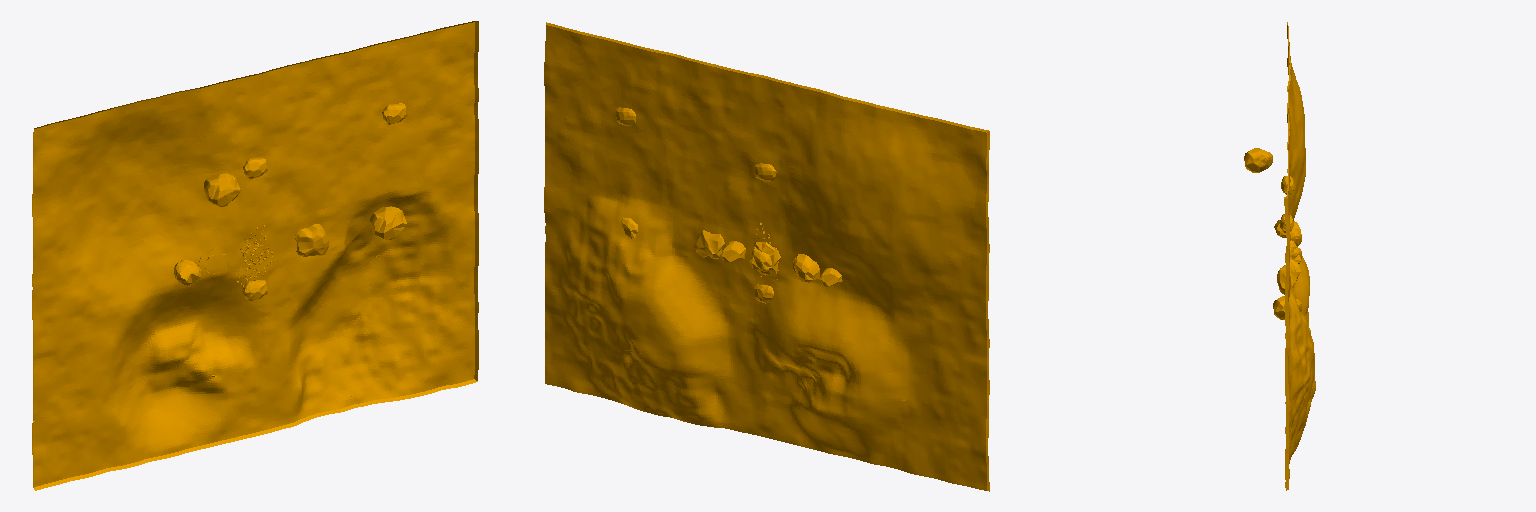
robot.urdf — unnamed:
<?xml version="1.0"?>
<!-- created with Phobos 0.7 -->
  <robot name="unnamed">

    <link name="Armature">
      <visual name="Group_ShadowedScene_Group_Group_PositionAttitudeTransform_M.003">
        <origin xyz="-0.8521 -1.13223 -0.84198" rpy="-1.5708 0 0"/>
        <geometry>
          <mesh filename="../meshes/stl/Group_ShadowedScene_Group_Group_PositionAttitudeTransform_M.044.stl" scale="1.0 1.0 1.0"/>
        </geometry>
      </visual>
      <visual name="rock1_high">
        <origin xyz="-11.49163 -1.13223 -0.84198" rpy="-1.5708 0 0"/>
        <geometry>
          <mesh filename="../meshes/stl/rock1_high.stl" scale="1.0 1.0 1.0"/>
        </geometry>
      </visual>
      <visual name="rock1_low">
        <origin xyz="-11.49163 -1.13223 -0.84198" rpy="-1.5708 0 0"/>
        <geometry>
          <mesh filename="../meshes/stl/rock1_low.stl" scale="1.0 1.0 1.0"/>
        </geometry>
      </visual>
      <visual name="rock1_low2">
        <origin xyz="-11.49163 -1.13223 -0.84198" rpy="-1.5708 0 0"/>
        <geometry>
          <mesh filename="../meshes/stl/rock1_low2.stl" scale="1.0 1.0 1.0"/>
        </geometry>
      </visual>
      <visual name="rock1_mid">
        <origin xyz="-11.49163 -1.13223 -0.84198" rpy="-1.5708 0 0"/>
        <geometry>
          <mesh filename="../meshes/stl/rock1_mid.stl" scale="1.0 1.0 1.0"/>
        </geometry>
      </visual>
      <visual name="rock2_high">
        <origin xyz="-11.49163 -1.13223 -0.84198" rpy="-1.5708 0 0"/>
        <geometry>
          <mesh filename="../meshes/stl/Group_ShadowedScene_Group_Group_PositionAttitudeTransform_M.020.stl" scale="1.0 1.0 1.0"/>
        </geometry>
      </visual>
      <visual name="rock2_high.001">
        <origin xyz="-15.7721 -3.63707 6.23099" rpy="-1.5708 0 0"/>
        <geometry>
          <mesh filename="../meshes/stl/Group_ShadowedScene_Group_Group_PositionAttitudeTransform_M.041.stl" scale="1.0 1.0 1.0"/>
        </geometry>
      </visual>
      <visual name="rock2_low">
        <origin xyz="-11.49163 -1.13223 -0.84198" rpy="-1.5708 0 0"/>
        <geometry>
          <mesh filename="../meshes/stl/Group_ShadowedScene_Group_Group_PositionAttitudeTransform_M.023.stl" scale="1.0 1.0 1.0"/>
        </geometry>
      </visual>
      <visual name="rock2_low.001">
        <origin xyz="-15.7721 -3.63707 6.23099" rpy="-1.5708 0 0"/>
        <geometry>
          <mesh filename="../meshes/stl/Group_ShadowedScene_Group_Group_PositionAttitudeTransform_M.039.stl" scale="1.0 1.0 1.0"/>
        </geometry>
      </visual>
      <visual name="rock2_low2">
        <origin xyz="-14.92233 -1.13223 -0.84198" rpy="-1.5708 0 0"/>
        <geometry>
          <mesh filename="../meshes/stl/Group_ShadowedScene_Group_Group_PositionAttitudeTransform_M.021.stl" scale="1.0 1.0 1.0"/>
        </geometry>
      </visual>
      <visual name="rock2_mid">
        <origin xyz="-11.49163 -1.13223 -0.84198" rpy="-1.5708 0 0"/>
        <geometry>
          <mesh filename="../meshes/stl/Group_ShadowedScene_Group_Group_PositionAttitudeTransform_M.022.stl" scale="1.0 1.0 1.0"/>
        </geometry>
      </visual>
      <visual name="rock2_mid.001">
        <origin xyz="-15.7721 -3.63707 6.23099" rpy="-1.5708 0 0"/>
        <geometry>
          <mesh filename="../meshes/stl/Group_ShadowedScene_Group_Group_PositionAttitudeTransform_M.040.stl" scale="1.0 1.0 1.0"/>
        </geometry>
      </visual>
      <visual name="rock3_high">
        <origin xyz="-11.49163 -1.13223 -0.84198" rpy="-1.5708 0 0"/>
        <geometry>
          <mesh filename="../meshes/stl/Group_ShadowedScene_Group_Group_PositionAttitudeTransform_M.045.stl" scale="1.0 1.0 1.0"/>
        </geometry>
      </visual>
      <visual name="rock3_high.001">
        <origin xyz="-17.12685 -1.13223 -0.84198" rpy="-1.5708 0 0"/>
        <geometry>
          <mesh filename="../meshes/stl/Group_ShadowedScene_Group_Group_PositionAttitudeTransform_M.038.stl" scale="1.0 1.0 1.0"/>
        </geometry>
      </visual>
      <visual name="rock3_low">
        <origin xyz="-11.49163 -1.13223 -0.84198" rpy="-1.5708 0 0"/>
        <geometry>
          <mesh filename="../meshes/stl/Group_ShadowedScene_Group_Group_PositionAttitudeTransform_M.003.stl" scale="1.0 1.0 1.0"/>
        </geometry>
      </visual>
      <visual name="rock3_low.001">
        <origin xyz="-17.12685 -1.13223 -0.84198" rpy="-1.5708 0 0"/>
        <geometry>
          <mesh filename="../meshes/stl/Group_ShadowedScene_Group_Group_PositionAttitudeTransform_M.035.stl" scale="1.0 1.0 1.0"/>
        </geometry>
      </visual>
      <visual name="rock3_low2">
        <origin xyz="-9.13653 -1.13223 -0.84198" rpy="-1.5708 0 0"/>
        <geometry>
          <mesh filename="../meshes/stl/Group_ShadowedScene_Group_Group_PositionAttitudeTransform_M.001.stl" scale="1.0 1.0 1.0"/>
        </geometry>
      </visual>
      <visual name="rock3_low2.001">
        <origin xyz="-17.12685 -1.13223 -0.84198" rpy="-1.5708 0 0"/>
        <geometry>
          <mesh filename="../meshes/stl/Group_ShadowedScene_Group_Group_PositionAttitudeTransform_M.037.stl" scale="1.0 1.0 1.0"/>
        </geometry>
      </visual>
      <visual name="rock3_mid">
        <origin xyz="-11.49163 -1.13223 -0.84198" rpy="-1.5708 0 0"/>
        <geometry>
          <mesh filename="../meshes/stl/Group_ShadowedScene_Group_Group_PositionAttitudeTransform_M.004.stl" scale="1.0 1.0 1.0"/>
        </geometry>
      </visual>
      <visual name="rock3_mid.001">
        <origin xyz="-17.12685 -1.13223 -0.84198" rpy="-1.5708 0 0"/>
        <geometry>
          <mesh filename="../meshes/stl/Group_ShadowedScene_Group_Group_PositionAttitudeTransform_M.036.stl" scale="1.0 1.0 1.0"/>
        </geometry>
      </visual>
      <visual name="rock4_extra_high">
        <origin xyz="-6.9556 -1.13223 -0.84198" rpy="-1.5708 0 0"/>
        <geometry>
          <mesh filename="../meshes/stl/Group_ShadowedScene_Group_Group_PositionAttitudeTransform_M.026.stl" scale="1.0 1.0 1.0"/>
        </geometry>
      </visual>
      <visual name="rock4_high">
        <origin xyz="-11.49163 -1.13223 -0.84198" rpy="-1.5708 0 0"/>
        <geometry>
          <mesh filename="../meshes/stl/Group_ShadowedScene_Group_Group_PositionAttitudeTransform_M.027.stl" scale="1.0 1.0 1.0"/>
        </geometry>
      </visual>
      <visual name="rock4_low">
        <origin xyz="-11.49163 -1.13223 -0.84198" rpy="-1.5708 0 0"/>
        <geometry>
          <mesh filename="../meshes/stl/Group_ShadowedScene_Group_Group_PositionAttitudeTransform_M.029.stl" scale="1.0 1.0 1.0"/>
        </geometry>
      </visual>
      <visual name="rock4_low2">
        <origin xyz="-11.49163 -1.13223 -0.84198" rpy="-1.5708 0 0"/>
        <geometry>
          <mesh filename="../meshes/stl/Group_ShadowedScene_Group_Group_PositionAttitudeTransform_M.024.stl" scale="1.0 1.0 1.0"/>
        </geometry>
      </visual>
      <visual name="rock4_mid">
        <origin xyz="-11.49163 -1.13223 -0.84198" rpy="-1.5708 0 0"/>
        <geometry>
          <mesh filename="../meshes/stl/Group_ShadowedScene_Group_Group_PositionAttitudeTransform_M.028.stl" scale="1.0 1.0 1.0"/>
        </geometry>
      </visual>
      <visual name="rock5_extra_high">
        <origin xyz="-11.49163 -1.13223 5.89371" rpy="-1.5708 0 0"/>
        <geometry>
          <mesh filename="../meshes/stl/Group_ShadowedScene_Group_Group_PositionAttitudeTransform_M.025.stl" scale="1.0 1.0 1.0"/>
        </geometry>
      </visual>
      <visual name="rock5_high">
        <origin xyz="-11.49163 -1.13223 -0.84198" rpy="-1.5708 0 0"/>
        <geometry>
          <mesh filename="../meshes/stl/Group_ShadowedScene_Group_Group_PositionAttitudeTransform_M.030.stl" scale="1.0 1.0 1.0"/>
        </geometry>
      </visual>
      <visual name="rock5_high.001">
        <origin xyz="-0.23873 -1.20993 7.50664" rpy="-1.5708 0 0"/>
        <geometry>
          <mesh filename="../meshes/stl/Group_ShadowedScene_Group_Group_PositionAttitudeTransform_M.033.stl" scale="1.0 1.0 1.0"/>
        </geometry>
      </visual>
      <visual name="rock5_low">
        <origin xyz="-11.49163 -1.13223 -0.84198" rpy="-1.5708 0 0"/>
        <geometry>
          <mesh filename="../meshes/stl/Group_ShadowedScene_Group_Group_PositionAttitudeTransform_M.032.stl" scale="1.0 1.0 1.0"/>
        </geometry>
      </visual>
      <visual name="rock5_low.001">
        <origin xyz="-0.23873 -1.20993 7.50664" rpy="-1.5708 0 0"/>
        <geometry>
          <mesh filename="../meshes/stl/Group_ShadowedScene_Group_Group_PositionAttitudeTransform_M.014.stl" scale="1.0 1.0 1.0"/>
        </geometry>
      </visual>
      <visual name="rock5_low2">
        <origin xyz="-14.59581 -1.13223 -0.84198" rpy="-1.5708 0 0"/>
        <geometry>
          <mesh filename="../meshes/stl/Group_ShadowedScene_Group_Group_PositionAttitudeTransform_M.002.stl" scale="1.0 1.0 1.0"/>
        </geometry>
      </visual>
      <visual name="rock5_low2.001">
        <origin xyz="-0.23873 -1.20993 7.50664" rpy="-1.5708 0 0"/>
        <geometry>
          <mesh filename="../meshes/stl/Group_ShadowedScene_Group_Group_PositionAttitudeTransform_M.034.stl" scale="1.0 1.0 1.0"/>
        </geometry>
      </visual>
      <visual name="rock5_mid">
        <origin xyz="-11.49163 -1.13223 -0.84198" rpy="-1.5708 0 0"/>
        <geometry>
          <mesh filename="../meshes/stl/Group_ShadowedScene_Group_Group_PositionAttitudeTransform_M.031.stl" scale="1.0 1.0 1.0"/>
        </geometry>
      </visual>
      <visual name="rock5_mid.001">
        <origin xyz="-0.23873 -1.20993 7.50664" rpy="-1.5708 0 0"/>
        <geometry>
          <mesh filename="../meshes/stl/Group_ShadowedScene_Group_Group_PositionAttitudeTransform_M.016.stl" scale="1.0 1.0 1.0"/>
        </geometry>
      </visual>
      <visual name="rock5_orig">
        <origin xyz="-11.49163 -1.13223 -3.5605" rpy="-1.5708 0 0"/>
        <geometry>
          <mesh filename="../meshes/stl/Group_ShadowedScene_Group_Group_PositionAttitudeTransform_M.000.stl" scale="1.0 1.0 1.0"/>
        </geometry>
      </visual>
      <visual name="stonefield_high">
        <origin xyz="-11.49163 -1.13223 -0.84198" rpy="-1.5708 0 0"/>
        <geometry>
          <mesh filename="../meshes/stl/Group_ShadowedScene_Group_Group_PositionAttitudeTransform_M.011.stl" scale="1.0 1.0 1.0"/>
        </geometry>
      </visual>
      <visual name="stonefield_low">
        <origin xyz="-11.49163 -1.13223 -0.84198" rpy="-1.5708 0 0"/>
        <geometry>
          <mesh filename="../meshes/stl/Group_ShadowedScene_Group_Group_PositionAttitudeTransform_M.018.stl" scale="1.0 1.0 1.0"/>
        </geometry>
      </visual>
      <visual name="stonefield_mid">
        <origin xyz="-11.49163 -1.13223 -0.84198" rpy="-1.5708 0 0"/>
        <geometry>
          <mesh filename="../meshes/stl/Group_ShadowedScene_Group_Group_PositionAttitudeTransform_M.017.stl" scale="1.0 1.0 1.0"/>
        </geometry>
      </visual>
      <visual name="tile_001">
        <origin xyz="-11.49163 -1.13223 -0.84198" rpy="-1.5708 0 0"/>
        <geometry>
          <mesh filename="../meshes/stl/env_mesh.003.stl" scale="1.0 1.0 1.0"/>
        </geometry>
      </visual>
      <visual name="tile_002">
        <origin xyz="-11.49163 -1.13223 -0.84198" rpy="-1.5708 0 0"/>
        <geometry>
          <mesh filename="../meshes/stl/env_mesh.004.stl" scale="1.0 1.0 1.0"/>
        </geometry>
      </visual>
      <visual name="tile_003">
        <origin xyz="-11.49163 -1.13223 -0.84198" rpy="-1.5708 0 0"/>
        <geometry>
          <mesh filename="../meshes/stl/env_mesh.005.stl" scale="1.0 1.0 1.0"/>
        </geometry>
      </visual>
      <visual name="tile_004">
        <origin xyz="-11.49163 -1.13223 -0.84198" rpy="-1.5708 0 0"/>
        <geometry>
          <mesh filename="../meshes/stl/env_mesh.006.stl" scale="1.0 1.0 1.0"/>
        </geometry>
      </visual>
      <visual name="tile_005">
        <origin xyz="-11.49163 -1.13223 -0.84198" rpy="-1.5708 0 0"/>
        <geometry>
          <mesh filename="../meshes/stl/env_mesh.007.stl" scale="1.0 1.0 1.0"/>
        </geometry>
      </visual>
      <visual name="tile_006">
        <origin xyz="-11.49163 -1.13223 -0.84198" rpy="-1.5708 0 0"/>
        <geometry>
          <mesh filename="../meshes/stl/env_mesh.008.stl" scale="1.0 1.0 1.0"/>
        </geometry>
      </visual>
      <visual name="tile_007">
        <origin xyz="-11.49163 -1.13223 -0.84198" rpy="-1.5708 0 0"/>
        <geometry>
          <mesh filename="../meshes/stl/env_mesh.009.stl" scale="1.0 1.0 1.0"/>
        </geometry>
      </visual>
      <visual name="tile_008">
        <origin xyz="-11.49163 -1.13223 -0.84198" rpy="-1.5708 0 0"/>
        <geometry>
          <mesh filename="../meshes/stl/env_mesh.010.stl" scale="1.0 1.0 1.0"/>
        </geometry>
      </visual>
      <visual name="tile_009">
        <origin xyz="-11.49163 -1.13223 -0.84198" rpy="-1.5708 0 0"/>
        <geometry>
          <mesh filename="../meshes/stl/env_mesh.011.stl" scale="1.0 1.0 1.0"/>
        </geometry>
      </visual>
      <visual name="tile_010">
        <origin xyz="-11.49163 -1.13223 -0.84198" rpy="-1.5708 0 0"/>
        <geometry>
          <mesh filename="../meshes/stl/env_mesh.012.stl" scale="1.0 1.0 1.0"/>
        </geometry>
      </visual>
      <visual name="tile_011">
        <origin xyz="-11.49163 -1.13223 -0.84198" rpy="-1.5708 0 0"/>
        <geometry>
          <mesh filename="../meshes/stl/env_mesh.013.stl" scale="1.0 1.0 1.0"/>
        </geometry>
      </visual>
      <visual name="tile_012">
        <origin xyz="-11.49163 -1.13223 -0.84198" rpy="-1.5708 0 0"/>
        <geometry>
          <mesh filename="../meshes/stl/env_mesh.014.stl" scale="1.0 1.0 1.0"/>
        </geometry>
      </visual>
      <visual name="tile_013">
        <origin xyz="-11.49163 -1.13223 -0.84198" rpy="-1.5708 0 0"/>
        <geometry>
          <mesh filename="../meshes/stl/env_mesh.015.stl" scale="1.0 1.0 1.0"/>
        </geometry>
      </visual>
      <visual name="tile_014">
        <origin xyz="-11.49163 -1.13223 -0.84198" rpy="-1.5708 0 0"/>
        <geometry>
          <mesh filename="../meshes/stl/env_mesh.016.stl" scale="1.0 1.0 1.0"/>
        </geometry>
      </visual>
      <visual name="tile_015">
        <origin xyz="-11.49163 -1.13223 -0.84198" rpy="-1.5708 0 0"/>
        <geometry>
          <mesh filename="../meshes/stl/env_mesh.017.stl" scale="1.0 1.0 1.0"/>
        </geometry>
      </visual>
      <visual name="tile_016">
        <origin xyz="-11.49163 -1.13223 -0.84198" rpy="-1.5708 0 0"/>
        <geometry>
          <mesh filename="../meshes/stl/env_mesh.018.stl" scale="1.0 1.0 1.0"/>
        </geometry>
      </visual>
      <visual name="tile_017">
        <origin xyz="-11.49163 -1.13223 -0.84198" rpy="-1.5708 0 0"/>
        <geometry>
          <mesh filename="../meshes/stl/env_mesh.019.stl" scale="1.0 1.0 1.0"/>
        </geometry>
      </visual>
      <visual name="tile_018">
        <origin xyz="-11.49163 -1.13223 -0.84198" rpy="-1.5708 0 0"/>
        <geometry>
          <mesh filename="../meshes/stl/env_mesh.020.stl" scale="1.0 1.0 1.0"/>
        </geometry>
      </visual>
      <visual name="tile_019">
        <origin xyz="-11.49163 -1.13223 -0.84198" rpy="-1.5708 0 0"/>
        <geometry>
          <mesh filename="../meshes/stl/env_mesh.021.stl" scale="1.0 1.0 1.0"/>
        </geometry>
      </visual>
      <visual name="tile_020">
        <origin xyz="-11.49163 -1.13223 -0.84198" rpy="-1.5708 0 0"/>
        <geometry>
          <mesh filename="../meshes/stl/env_mesh.022.stl" scale="1.0 1.0 1.0"/>
        </geometry>
      </visual>
      <visual name="tile_021">
        <origin xyz="-11.49163 -1.13223 -0.84198" rpy="-1.5708 0 0"/>
        <geometry>
          <mesh filename="../meshes/stl/env_mesh.023.stl" scale="1.0 1.0 1.0"/>
        </geometry>
      </visual>
      <visual name="tile_022">
        <origin xyz="-11.49163 -1.13223 -0.84198" rpy="-1.5708 0 0"/>
        <geometry>
          <mesh filename="../meshes/stl/env_mesh.024.stl" scale="1.0 1.0 1.0"/>
        </geometry>
      </visual>
      <visual name="tile_023">
        <origin xyz="-11.49163 -1.13223 -0.84198" rpy="-1.5708 0 0"/>
        <geometry>
          <mesh filename="../meshes/stl/env_mesh.025.stl" scale="1.0 1.0 1.0"/>
        </geometry>
      </visual>
      <visual name="tile_mid_001">
        <origin xyz="-11.49163 -1.13223 -0.84198" rpy="-1.5708 0 0"/>
        <geometry>
          <mesh filename="../meshes/stl/env_mesh.118.stl" scale="1.0 1.0 1.0"/>
        </geometry>
      </visual>
      <visual name="tile_mid_002">
        <origin xyz="-11.49163 -1.13223 -0.84198" rpy="-1.5708 0 0"/>
        <geometry>
          <mesh filename="../meshes/stl/env_mesh.117.stl" scale="1.0 1.0 1.0"/>
        </geometry>
      </visual>
      <visual name="tile_mid_003">
        <origin xyz="-11.49163 -1.13223 -0.84198" rpy="-1.5708 0 0"/>
        <geometry>
          <mesh filename="../meshes/stl/env_mesh.116.stl" scale="1.0 1.0 1.0"/>
        </geometry>
      </visual>
      <visual name="tile_mid_004">
        <origin xyz="-11.49163 -1.13223 -0.84198" rpy="-1.5708 0 0"/>
        <geometry>
          <mesh filename="../meshes/stl/env_mesh.027.stl" scale="1.0 1.0 1.0"/>
        </geometry>
      </visual>
      <visual name="tile_mid_005">
        <origin xyz="-11.49163 -1.13223 -0.84198" rpy="-1.5708 0 0"/>
        <geometry>
          <mesh filename="../meshes/stl/env_mesh.114.stl" scale="1.0 1.0 1.0"/>
        </geometry>
      </visual>
      <visual name="tile_mid_006">
        <origin xyz="-11.49163 -1.13223 -0.84198" rpy="-1.5708 0 0"/>
        <geometry>
          <mesh filename="../meshes/stl/env_mesh.113.stl" scale="1.0 1.0 1.0"/>
        </geometry>
      </visual>
      <visual name="tile_mid_007">
        <origin xyz="-11.49163 -1.13223 -0.84198" rpy="-1.5708 0 0"/>
        <geometry>
          <mesh filename="../meshes/stl/env_mesh.119.stl" scale="1.0 1.0 1.0"/>
        </geometry>
      </visual>
      <visual name="tile_mid_008">
        <origin xyz="-11.49163 -1.13223 -0.84198" rpy="-1.5708 0 0"/>
        <geometry>
          <mesh filename="../meshes/stl/env_mesh.111.stl" scale="1.0 1.0 1.0"/>
        </geometry>
      </visual>
      <visual name="tile_mid_009">
        <origin xyz="-11.49163 -1.13223 -0.84198" rpy="-1.5708 0 0"/>
        <geometry>
          <mesh filename="../meshes/stl/env_mesh.110.stl" scale="1.0 1.0 1.0"/>
        </geometry>
      </visual>
      <visual name="tile_mid_010">
        <origin xyz="-11.49163 -1.13223 -0.84198" rpy="-1.5708 0 0"/>
        <geometry>
          <mesh filename="../meshes/stl/env_mesh.109.stl" scale="1.0 1.0 1.0"/>
        </geometry>
      </visual>
      <visual name="tile_mid_011">
        <origin xyz="-11.49163 -1.13223 -0.84198" rpy="-1.5708 0 0"/>
        <geometry>
          <mesh filename="../meshes/stl/env_mesh.108.stl" scale="1.0 1.0 1.0"/>
        </geometry>
      </visual>
      <visual name="tile_mid_012">
        <origin xyz="-11.49163 -1.13223 -0.84198" rpy="-1.5708 0 0"/>
        <geometry>
          <mesh filename="../meshes/stl/env_mesh.107.stl" scale="1.0 1.0 1.0"/>
        </geometry>
      </visual>
      <visual name="tile_mid_013">
        <origin xyz="-11.49163 -1.13223 -0.84198" rpy="-1.5708 0 0"/>
        <geometry>
          <mesh filename="../meshes/stl/env_mesh.106.stl" scale="1.0 1.0 1.0"/>
        </geometry>
      </visual>
      <visual name="tile_mid_014">
        <origin xyz="-11.49163 -1.13223 -0.84198" rpy="-1.5708 0 0"/>
        <geometry>
          <mesh filename="../meshes/stl/env_mesh.105.stl" scale="1.0 1.0 1.0"/>
        </geometry>
      </visual>
      <visual name="tile_mid_015">
        <origin xyz="-11.49163 -1.13223 -0.84198" rpy="-1.5708 0 0"/>
        <geometry>
          <mesh filename="../meshes/stl/env_mesh.104.stl" scale="1.0 1.0 1.0"/>
        </geometry>
      </visual>
      <visual name="tile_mid_016">
        <origin xyz="-11.49163 -1.13223 -0.84198" rpy="-1.5708 0 0"/>
        <geometry>
          <mesh filename="../meshes/stl/env_mesh.103.stl" scale="1.0 1.0 1.0"/>
        </geometry>
      </visual>
      <visual name="tile_mid_017">
        <origin xyz="-11.49163 -1.13223 -0.84198" rpy="-1.5708 0 0"/>
        <geometry>
          <mesh filename="../meshes/stl/env_mesh.102.stl" scale="1.0 1.0 1.0"/>
        </geometry>
      </visual>
      <visual name="tile_mid_018">
        <origin xyz="-11.49163 -1.13223 -0.84198" rpy="-1.5708 0 0"/>
        <geometry>
          <mesh filename="../meshes/stl/env_mesh.101.stl" scale="1.0 1.0 1.0"/>
        </geometry>
      </visual>
      <visual name="tile_mid_019">
        <origin xyz="-11.49163 -1.13223 -0.84198" rpy="-1.5708 0 0"/>
        <geometry>
          <mesh filename="../meshes/stl/env_mesh.100.stl" scale="1.0 1.0 1.0"/>
        </geometry>
      </visual>
      <visual name="tile_mid_020">
        <origin xyz="-11.49163 -1.13223 -0.84198" rpy="-1.5708 0 0"/>
        <geometry>
          <mesh filename="../meshes/stl/env_mesh.099.stl" scale="1.0 1.0 1.0"/>
        </geometry>
      </visual>
      <visual name="tile_mid_021">
        <origin xyz="-11.49163 -1.13223 -0.84198" rpy="-1.5708 0 0"/>
        <geometry>
          <mesh filename="../meshes/stl/env_mesh.098.stl" scale="1.0 1.0 1.0"/>
        </geometry>
      </visual>
      <visual name="tile_mid_022">
        <origin xyz="-11.49163 -1.13223 -0.84198" rpy="-1.5708 0 0"/>
        <geometry>
          <mesh filename="../meshes/stl/env_mesh.097.stl" scale="1.0 1.0 1.0"/>
        </geometry>
      </visual>
      <visual name="tile_mid_023">
        <origin xyz="-11.49163 -1.13223 -0.84198" rpy="-1.5708 0 0"/>
        <geometry>
          <mesh filename="../meshes/stl/env_mesh.096.stl" scale="1.0 1.0 1.0"/>
        </geometry>
      </visual>
    </link>

  </robot>

--- Render facts (derived) ---
Views: 3 orthographic renders of the robot side by side, from view 1: azimuth 30°, elevation 25°; view 2: azimuth 150°, elevation 25°; view 3: azimuth 270°, elevation 25°.
Model unnamed with 1 links and 0 joints (none), rooted at Armature, posed every joint at zero.
Visible links, largest first — view 1: Armature; view 2: Armature; view 3: Armature.
Boxes of the visible links, <box> form: Armature: <box>32,21,478,490</box>; Armature: <box>544,22,989,491</box>; Armature: <box>1244,22,1315,490</box>.
Bounding box of the posed robot: 36 × 6.21 × 28 m (x, y, z).
84 mesh visuals loaded from 84 distinct referenced files (84 binary STL).